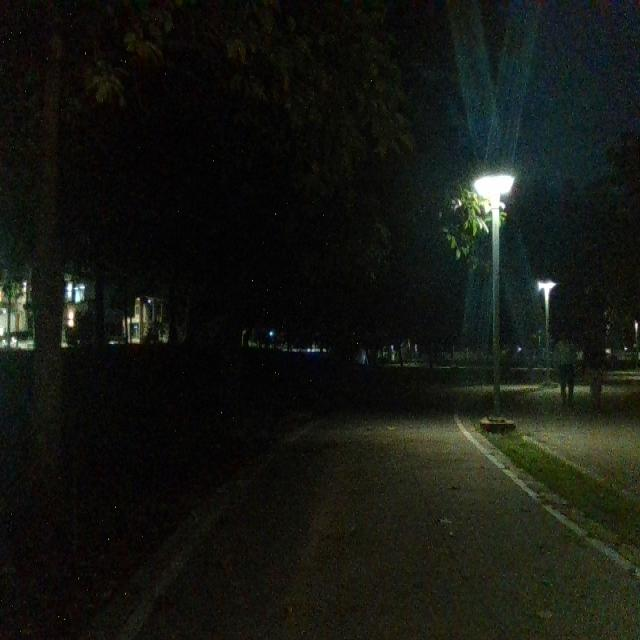lane: (135, 416, 640, 640)
